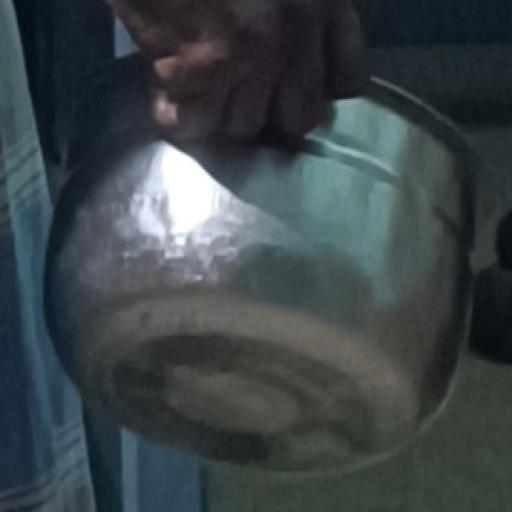vessel: (46, 56, 474, 471)
